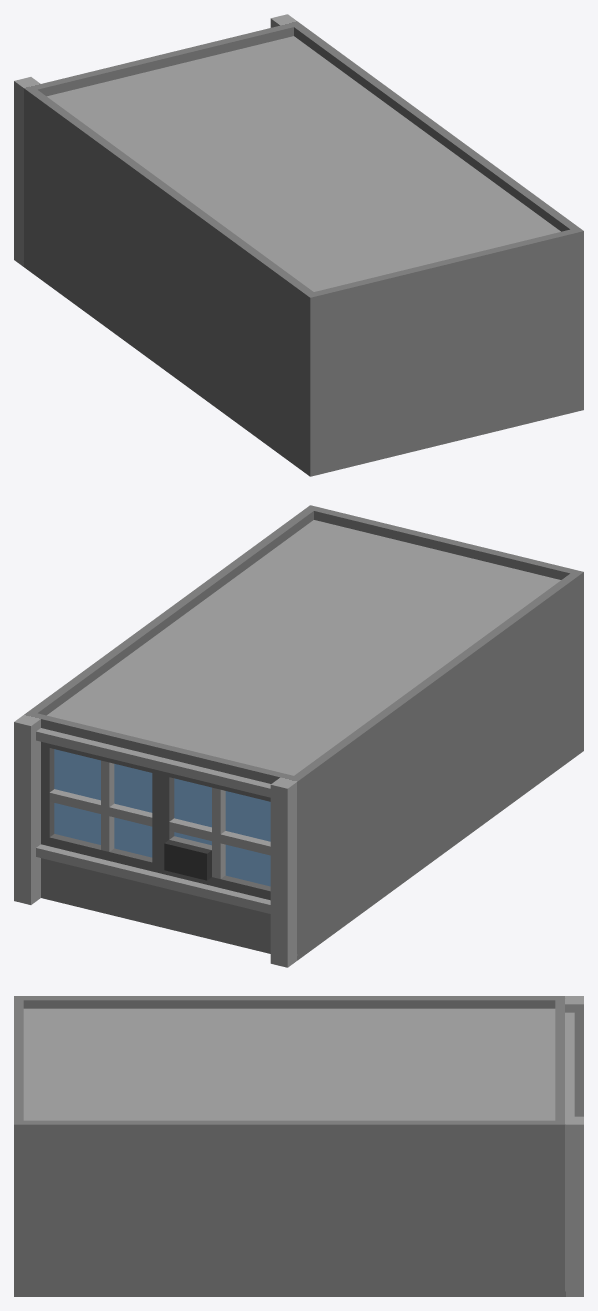
File: obj_story01.fbx
3 views of the same model, one above another, from view 1: azimuth 30°, elevation 25°; view 2: azimuth 150°, elevation 25°; view 3: azimuth 270°, elevation 25° (orthographic). The views are drawn at different scales.
Visible parts, largest first — view 1: obj_story01; view 2: obj_story01; view 3: obj_story01.
Part boxes in pixels (x1,y1,x2,y2): obj_story01: [14, 14, 583, 476]; obj_story01: [14, 505, 583, 967]; obj_story01: [14, 996, 583, 1296].
Size of the model in its own units: 3.2 by 6 by 2.
Materials: 1 (1 with a texture image).
